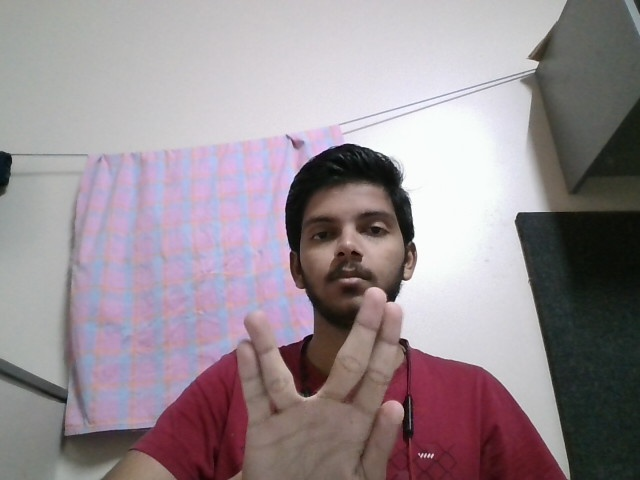Live Long: (222, 284, 427, 480)
